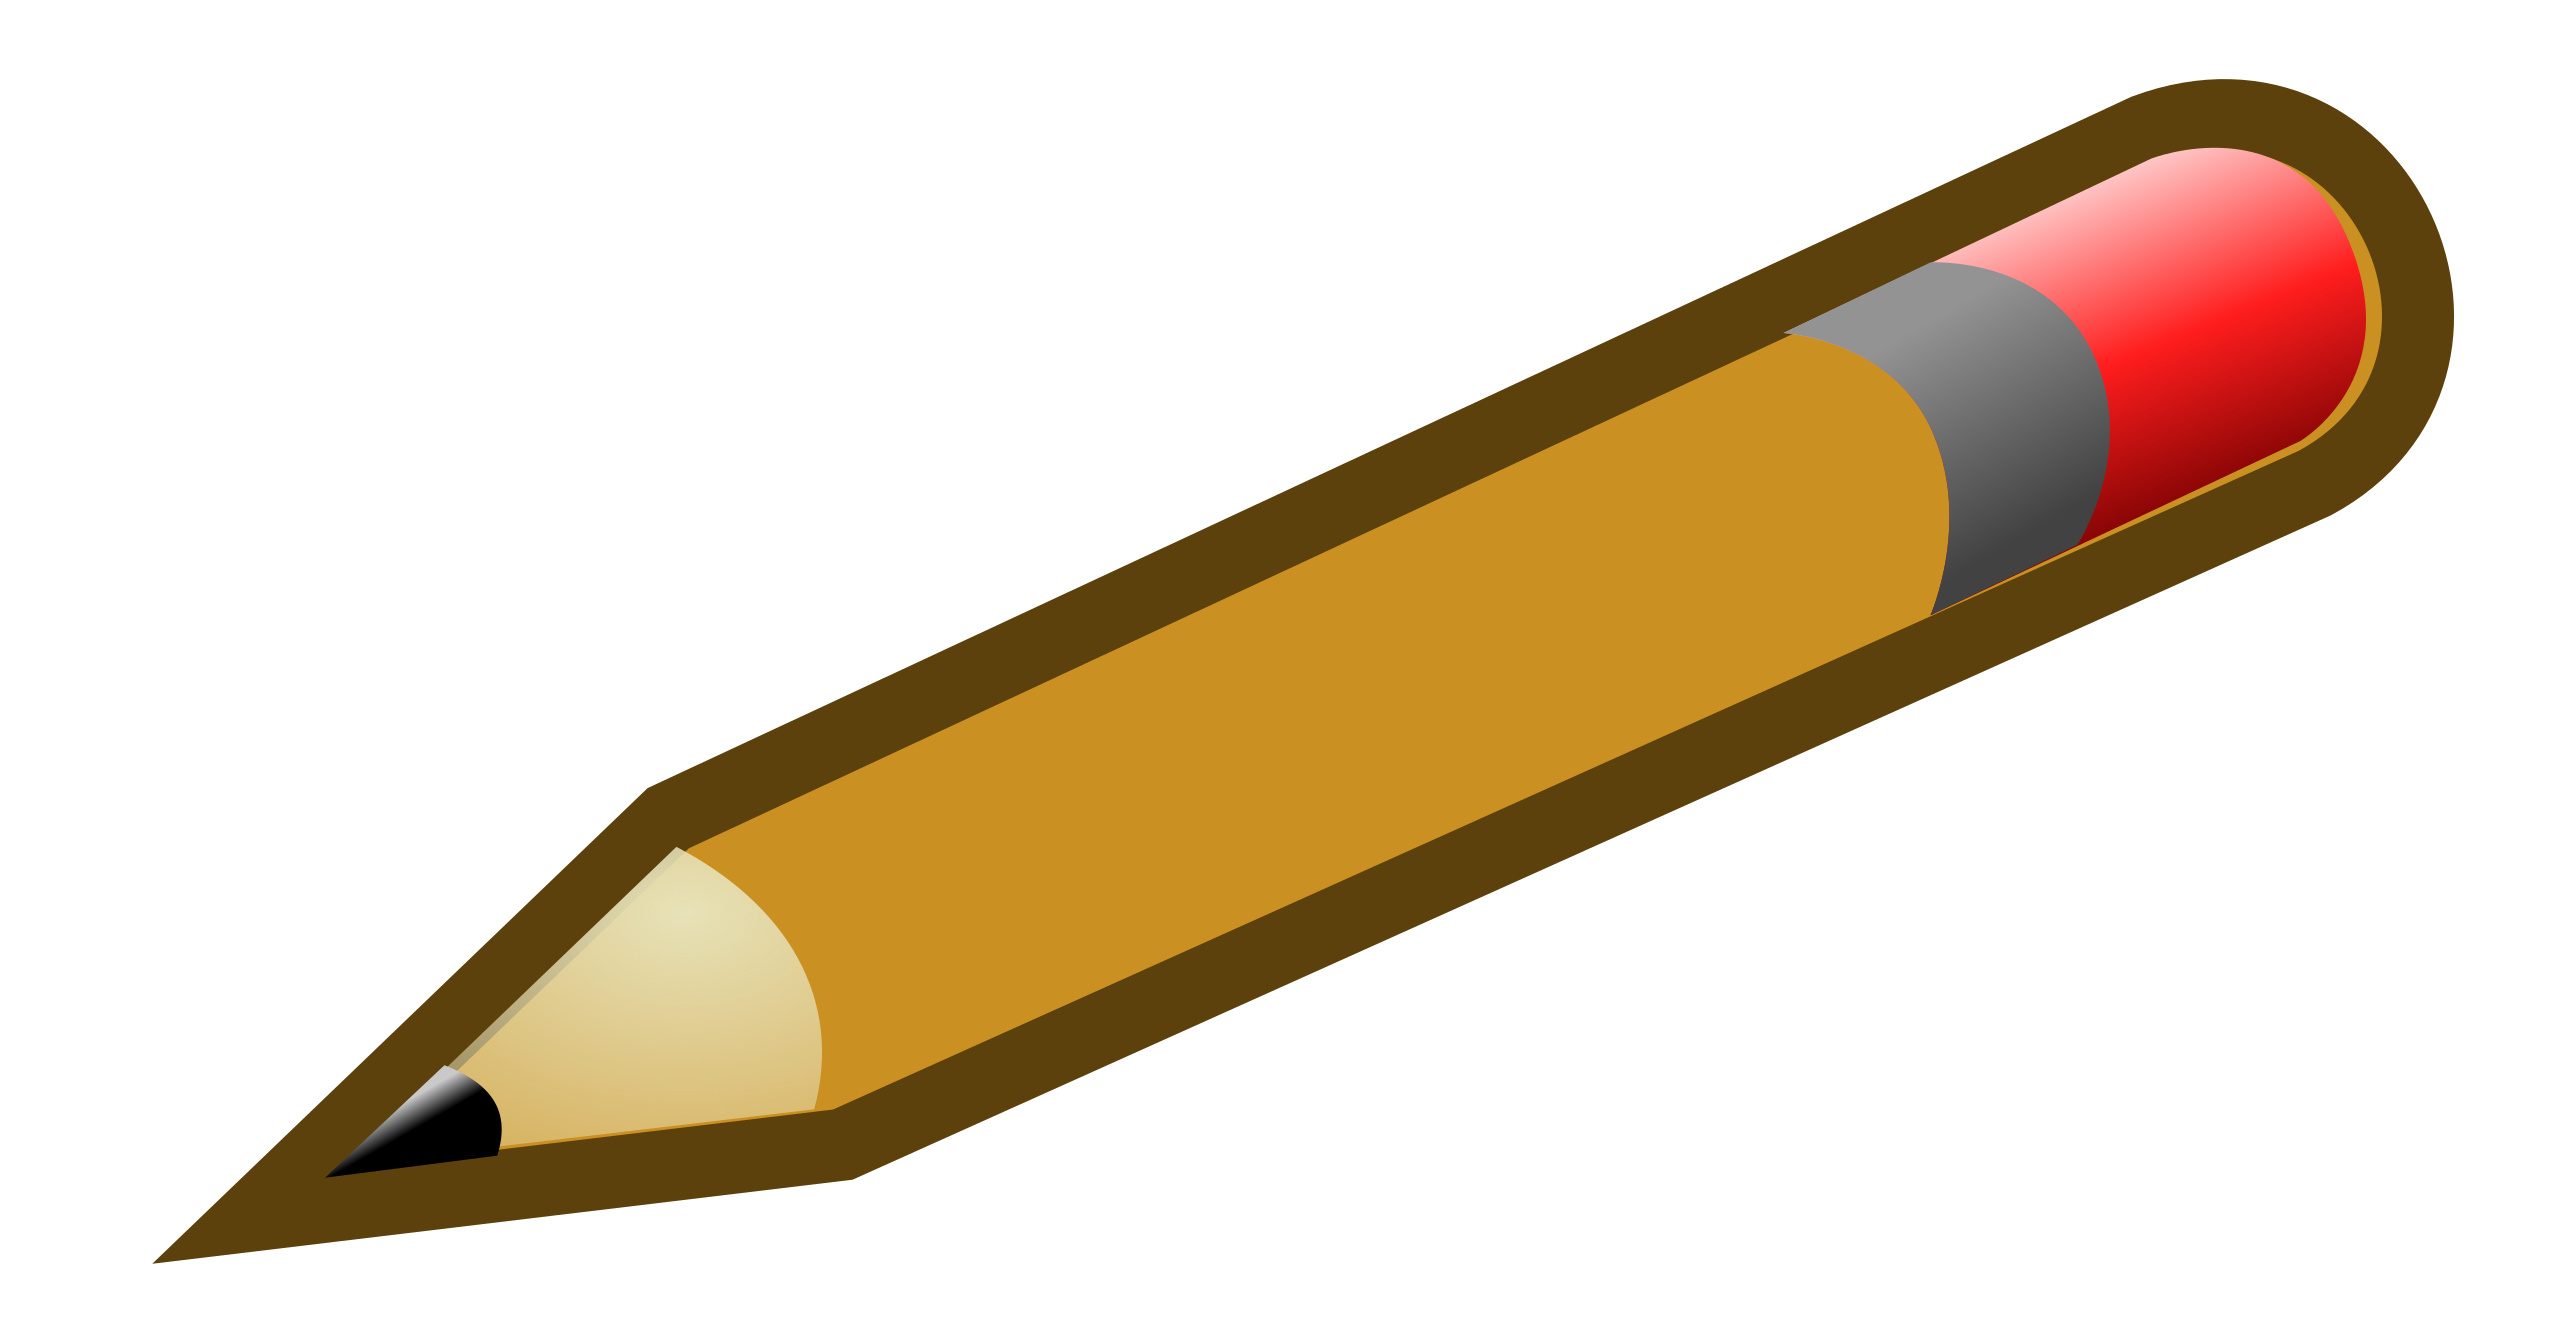pencil: (139, 18, 2560, 1334)
